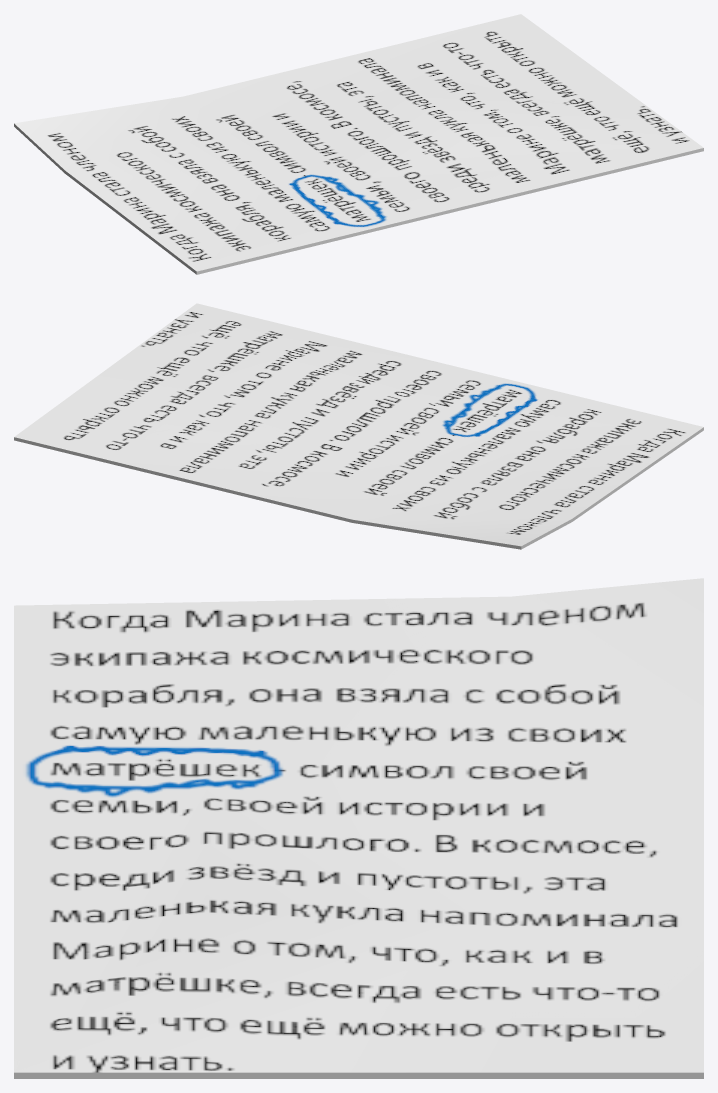
Rendered from RS_note_3.fbx.
The picture shows the model from 3 angles, top to bottom: view 1: azimuth 30°, elevation 25°; view 2: azimuth 150°, elevation 25°; view 3: azimuth 270°, elevation 25°; orthographic projection. The views are drawn at different scales.
Visible parts, largest first — view 1: note_3; view 2: note_3; view 3: note_3.
Boxes of the visible parts, x1,y1,x2,y2 form: note_3: (14, 14, 703, 274); note_3: (14, 303, 703, 549); note_3: (14, 578, 703, 1078).
Bounding box in the file's own units: 28.07 × 0.9407 × 17.52.
